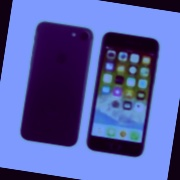iphone: (94, 29, 154, 150), (27, 29, 86, 150)
